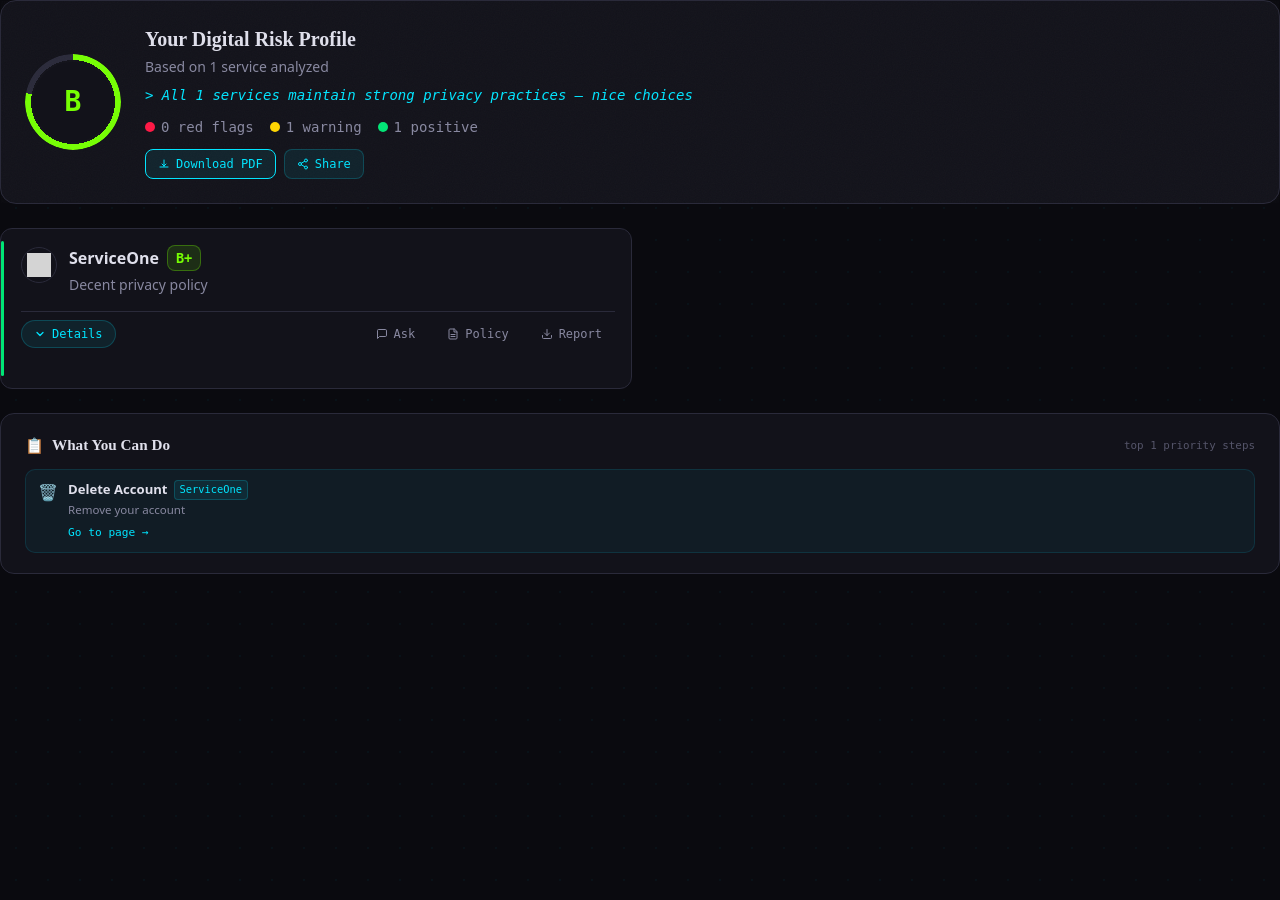
RiskProfile › shows excerpt buttons for warnings and positives with quotes
Click the button titled "Show detailed findings". click: (68, 334)
box: [21, 320, 116, 348]
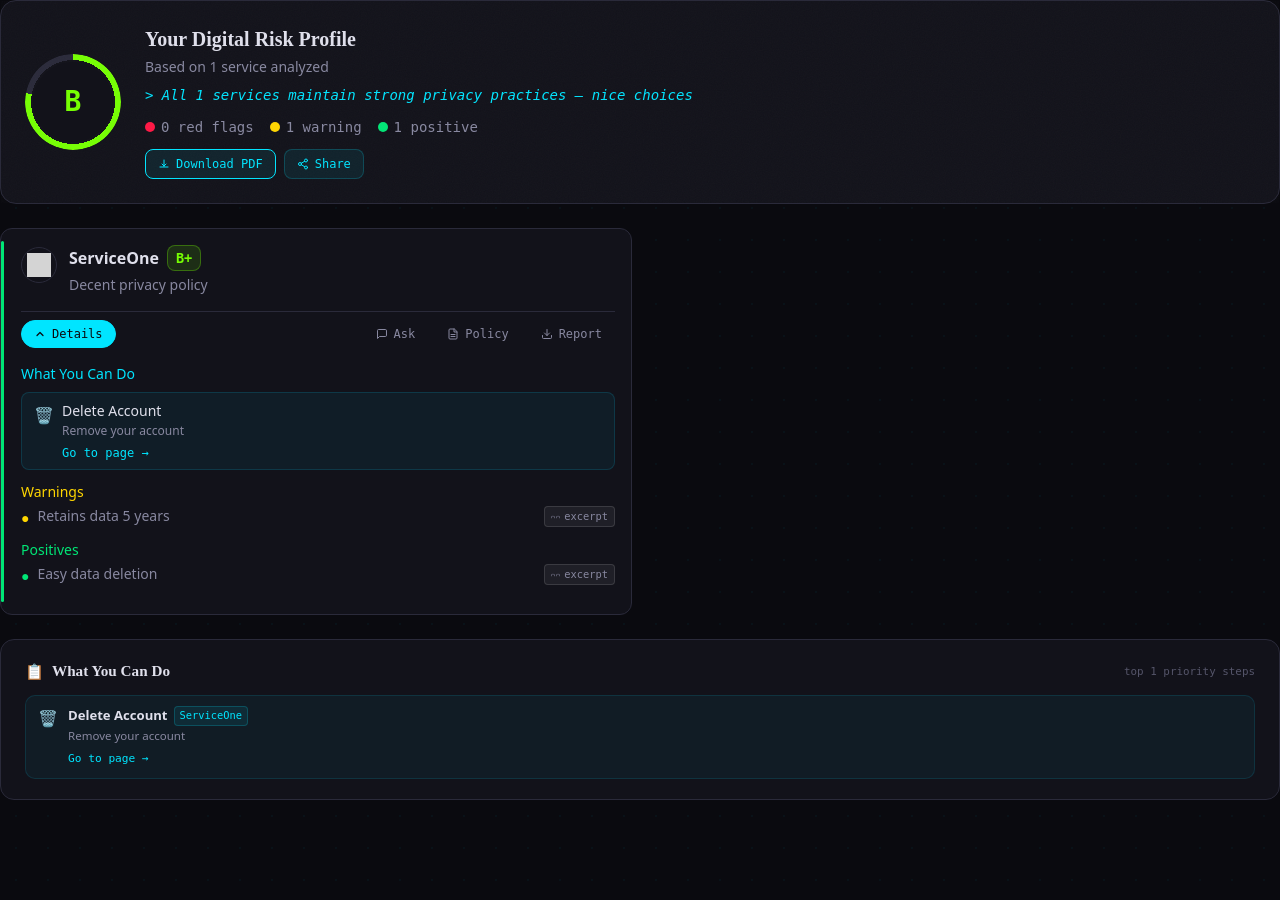
Expected: the number of buttons titled "Show policy excerpt" is 2, [544, 506, 615, 527]; [544, 564, 615, 585]
